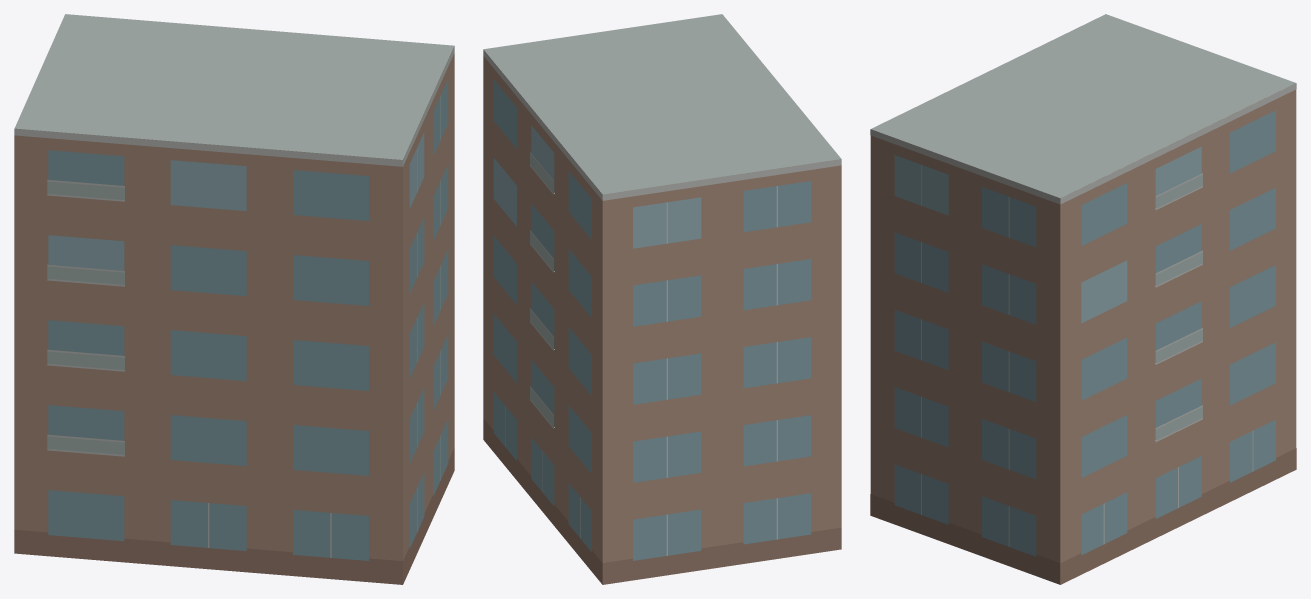
Rendered from survey-upis-32890374.glb.
The picture shows the model from 3 angles, left to right: view 1: azimuth 30°, elevation 25°; view 2: azimuth 150°, elevation 25°; view 3: azimuth 270°, elevation 25°; orthographic projection. The views are drawn at different scales.
Visible parts, largest first — view 1: survey-upis-32890374.tmp; view 2: survey-upis-32890374.tmp; view 3: survey-upis-32890374.tmp.
Part boxes in pixels (left/top/right/bottom): survey-upis-32890374.tmp: left=14, top=14, right=454, bottom=584; survey-upis-32890374.tmp: left=483, top=14, right=841, bottom=584; survey-upis-32890374.tmp: left=870, top=14, right=1296, bottom=584.
Bounding box in the file's own units: 15.45 × 15.1 × 15.08.
